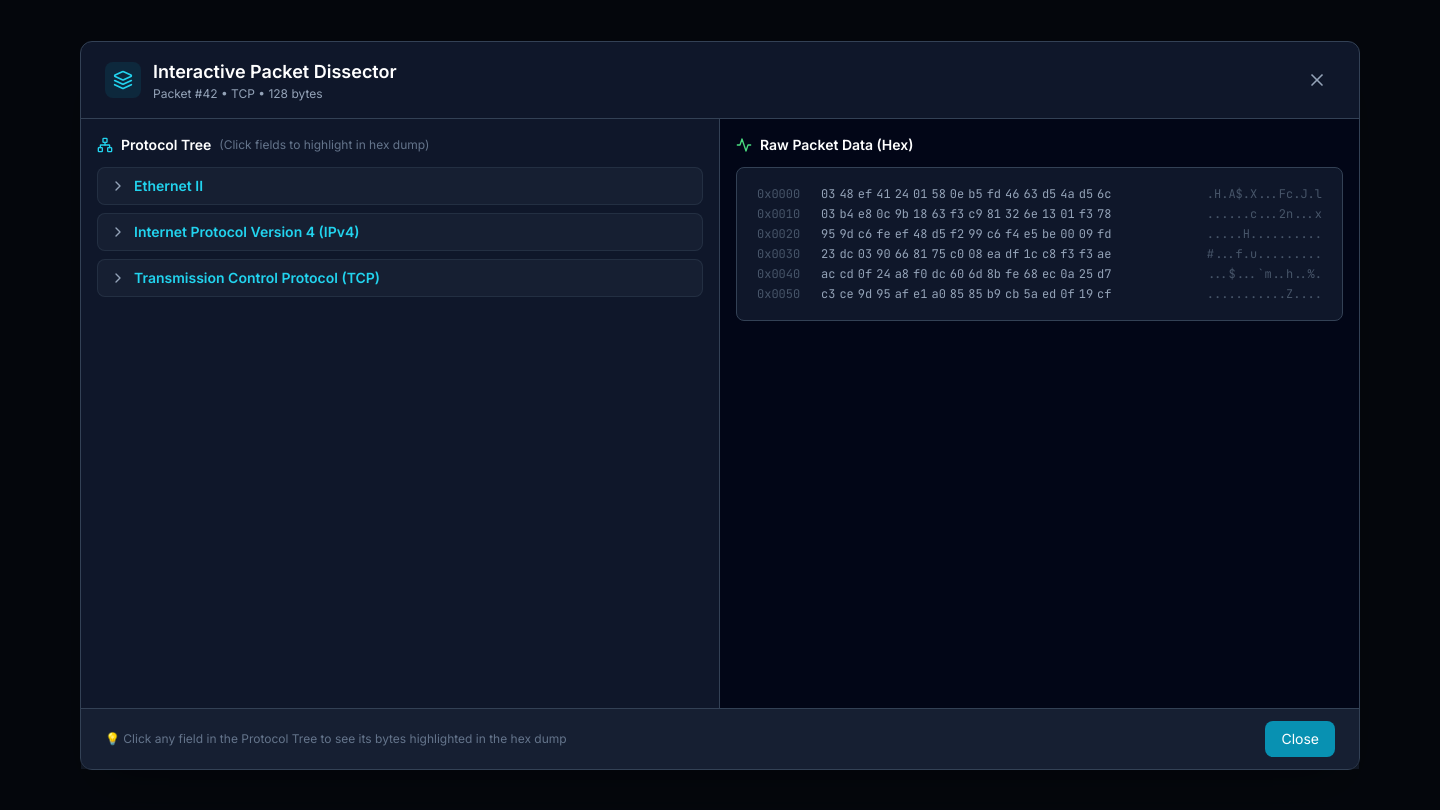
Test case: PacketDissector › can toggle layer expansion on and off
This screenshot has width=1440, height=810.
# Click to expand
Click the button "Internet Protocol Version 4 (IPv4)": (247, 231) [98,214,702,250]
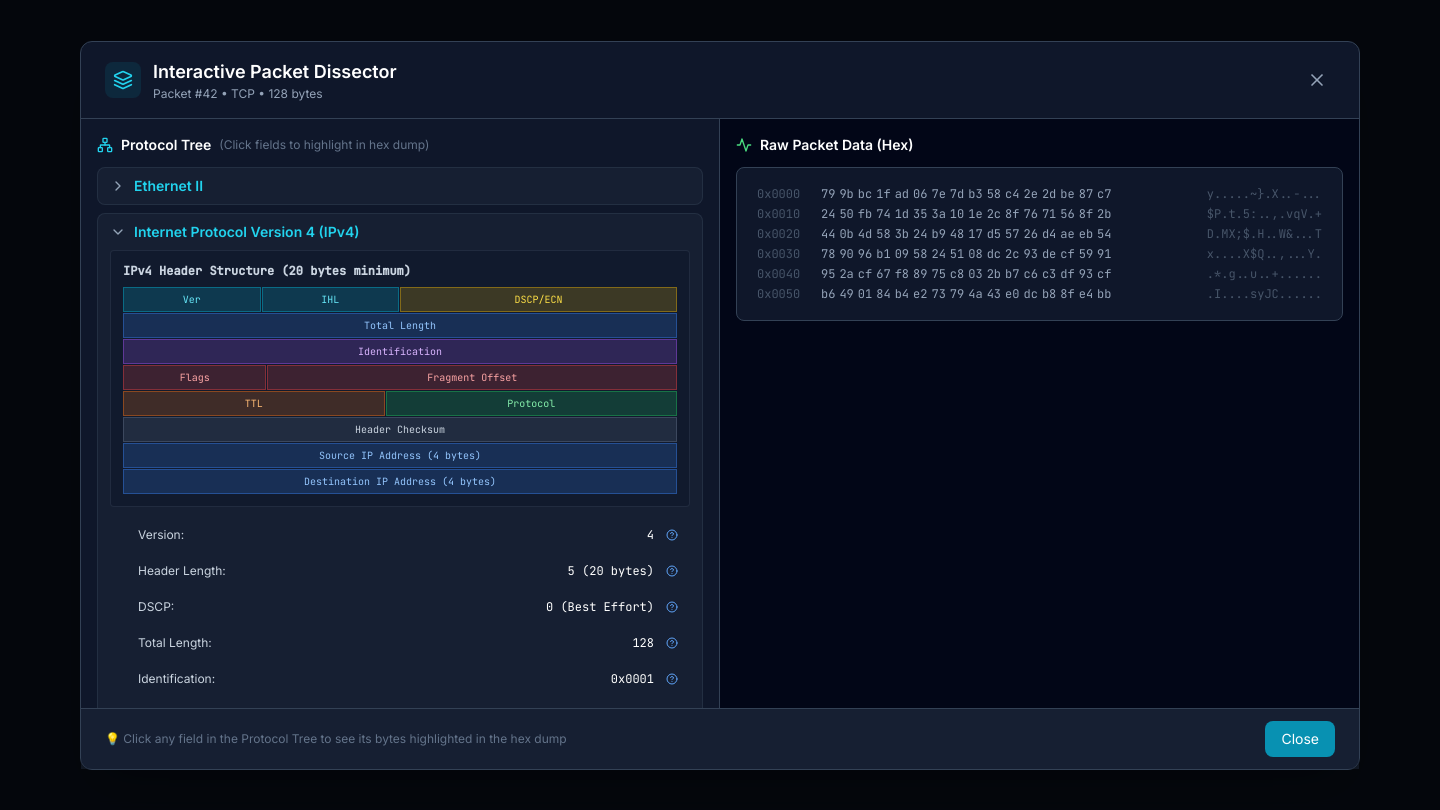
Check: the text "Source IP" is shown, box [319,448,481,462]
# Click to collapse
Click the button "Internet Protocol Version 4 (IPv4)": (247, 231) [98,214,702,250]
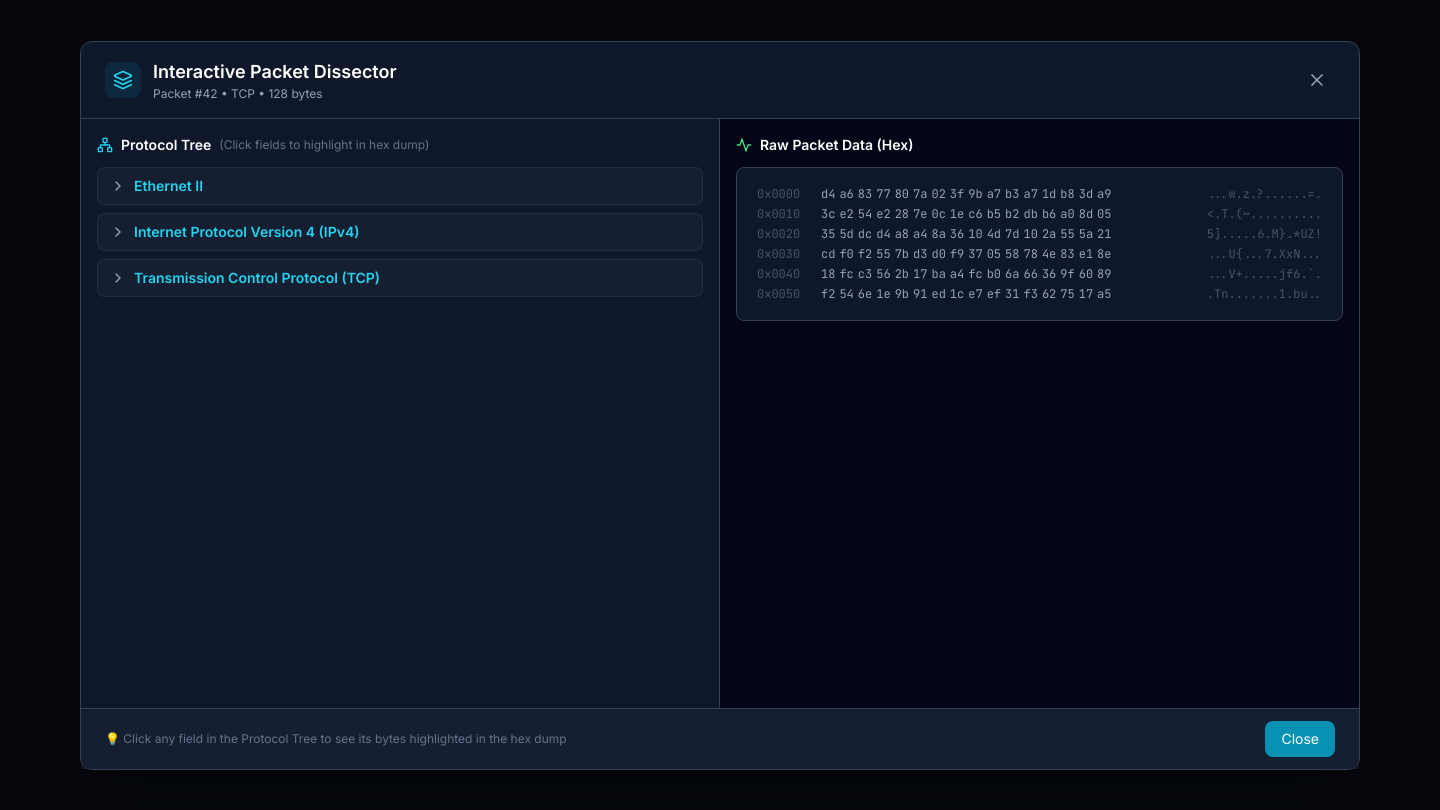
Check: the text "Source IP" is gone
